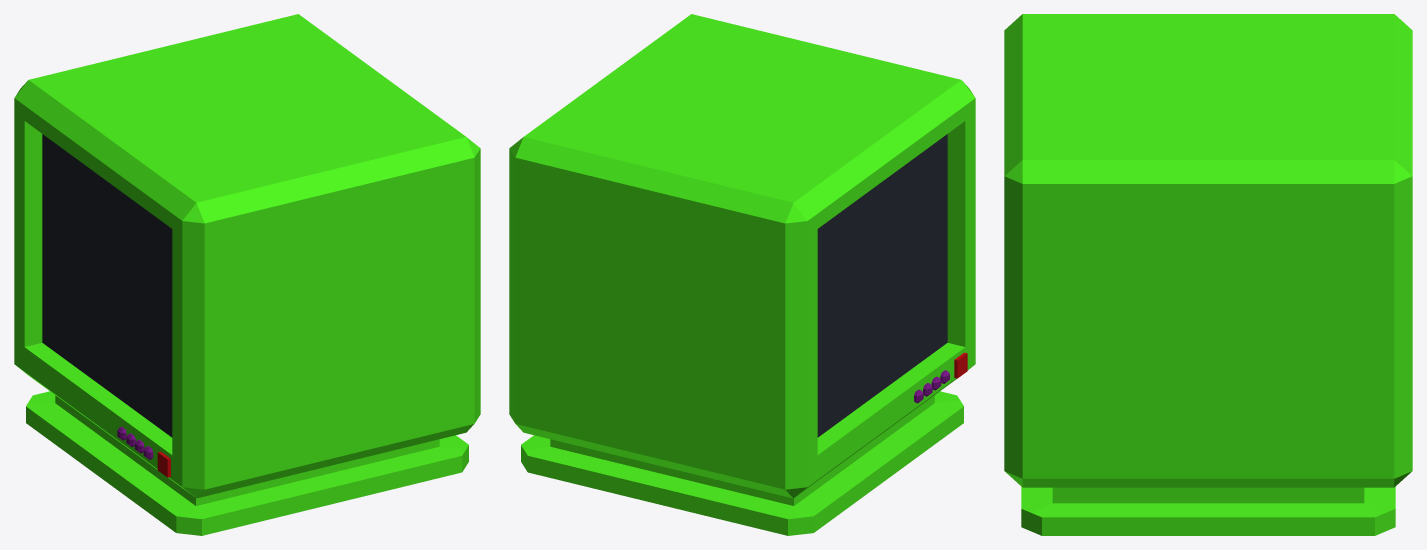
File: Televisor.fbx
3 views of the same model, side by side, from view 1: azimuth 30°, elevation 25°; view 2: azimuth 150°, elevation 25°; view 3: azimuth 270°, elevation 25° (orthographic). The views are drawn at different scales.
Parts seen in each view (by area): view 1: pCube1; view 2: pCube1; view 3: pCube1.
Part boxes in pixels (x1=…): pCube1: x1=14, y1=14, x2=480, y2=535; pCube1: x1=509, y1=14, x2=975, y2=535; pCube1: x1=1004, y1=14, x2=1412, y2=535.
Bounding box in the file's own units: 0.4658 × 0.4903 × 0.4903.
